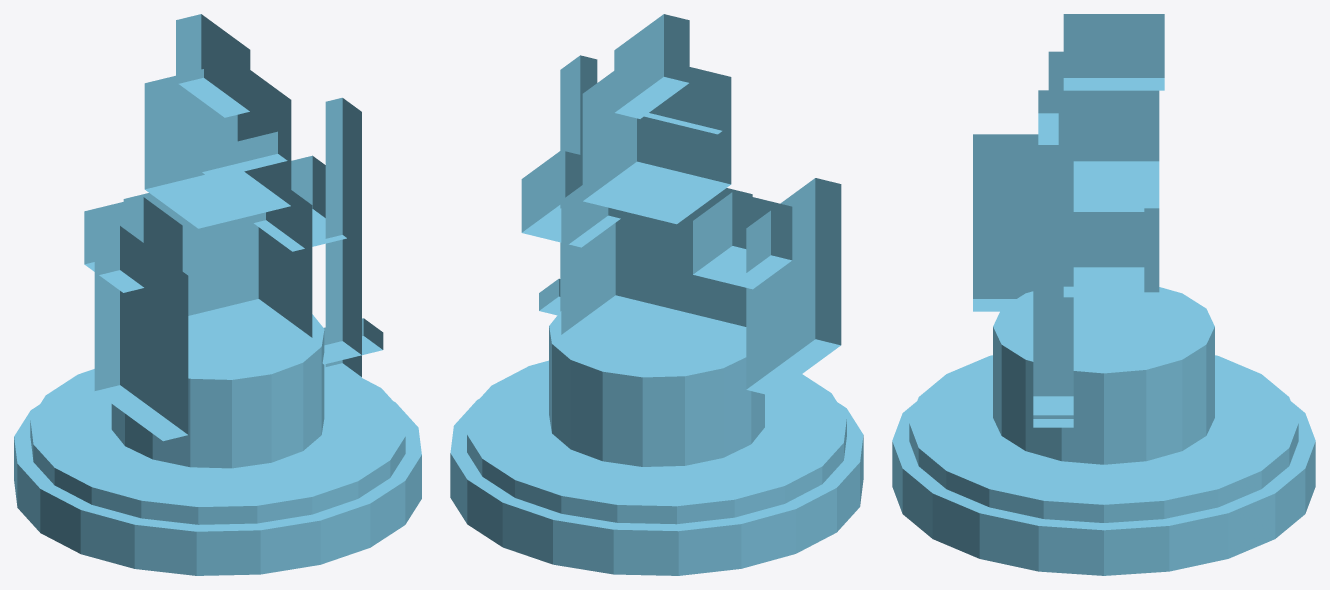
Rendered from character_knight_pawn.glb.
3 renders of one model, left to right at view 1: azimuth 30°, elevation 25°; view 2: azimuth 150°, elevation 25°; view 3: azimuth 270°, elevation 25°, orthographic. The views are drawn at different scales.
Parts seen in each view (by area): view 1: KnightPawn_Node; view 2: KnightPawn_Node; view 3: KnightPawn_Node.
Boxes of the visible parts, x1,y1,x2,y2 form: KnightPawn_Node: (14,14,421,575); KnightPawn_Node: (450,14,863,575); KnightPawn_Node: (892,14,1315,575).
Bounding box in the file's own units: 0.84 × 1.02 × 0.84.
